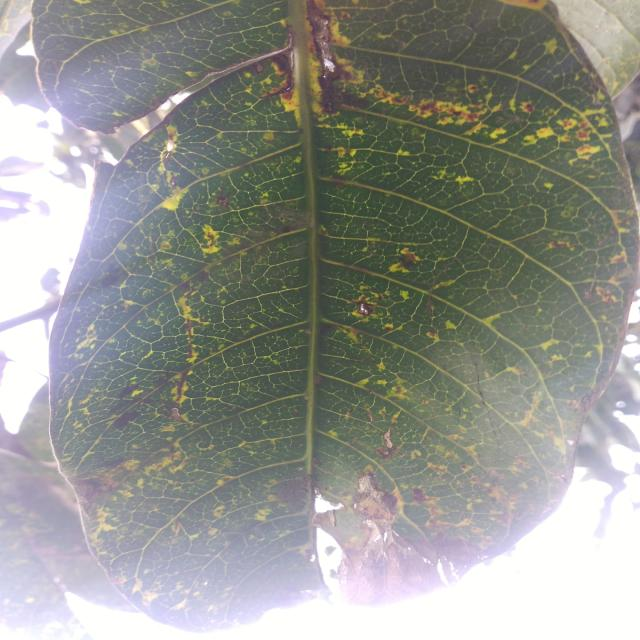Anthracnose: (351, 298, 378, 317), (395, 253, 420, 268)
Bacterial Cancer: (315, 20, 337, 71)
Powdery Mildew: (359, 477, 370, 491), (384, 432, 393, 448)
